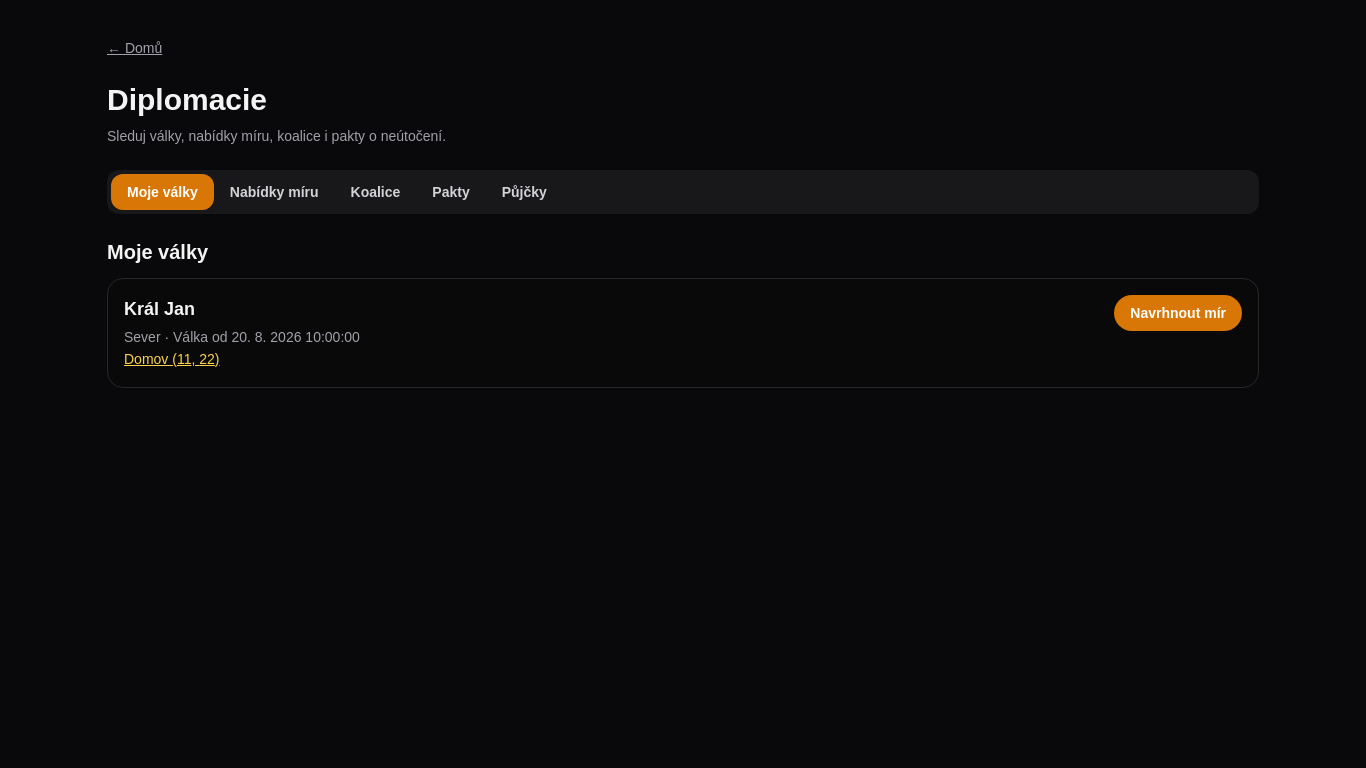
Test: DiplomacyPage › opens the fullscreen peace proposal overlay from a war card
The image size is (1366, 768).
expect the heading "Král Jan" is shown: met, box [124,299,195,319]
Click the button "Navrhnout mír" at (1178,313), box [1114,295,1242,331]
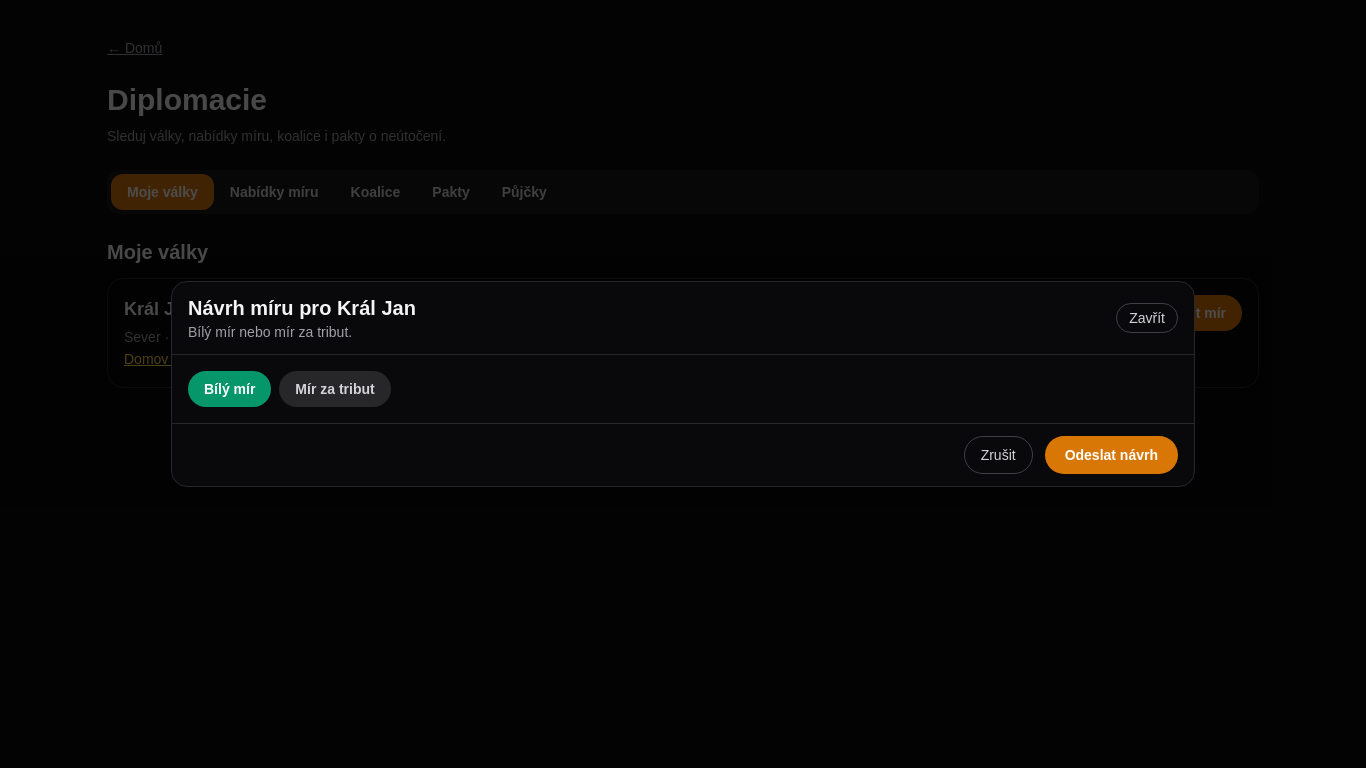
expect the element with test id "peace-proposal-overlay" is shown: met
